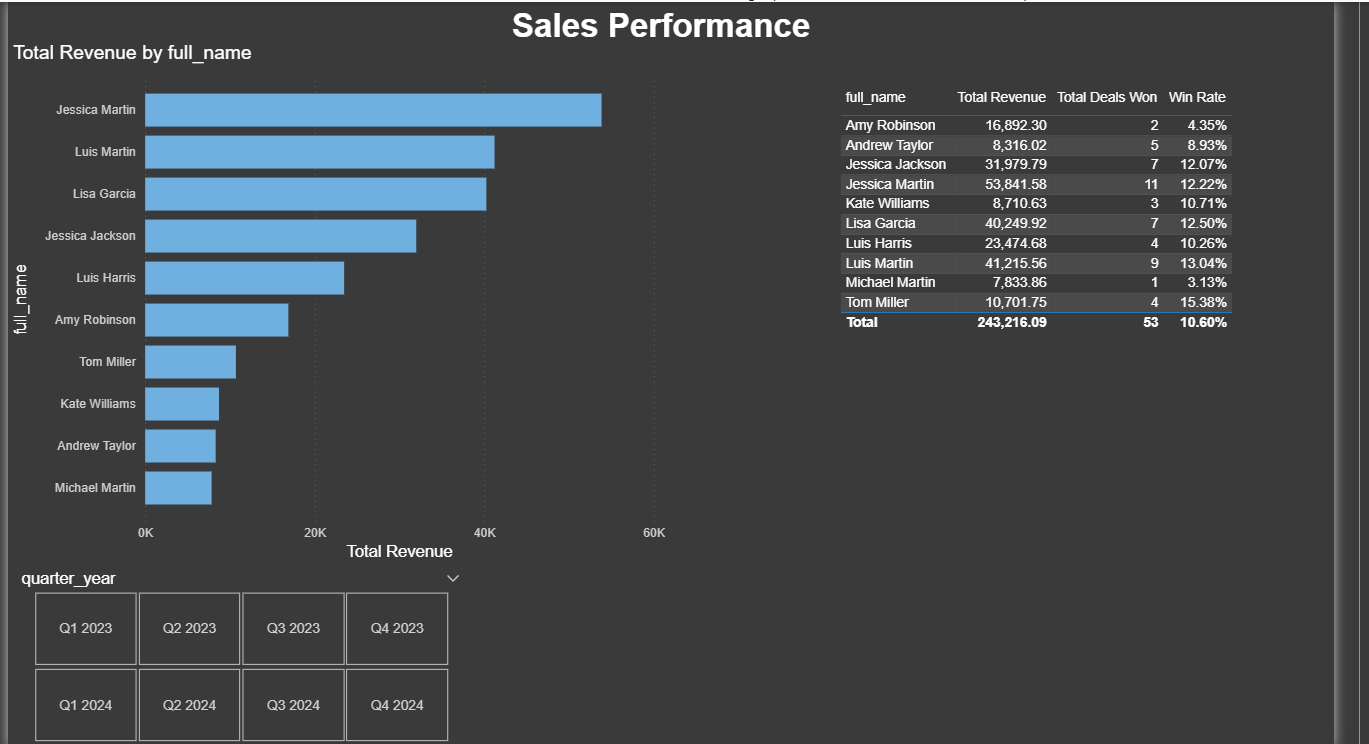

What the dashboard file says about the page in this screenshot:
{"tool":"powerbi","page":{"name":"Sales Performance","canvas":[1280,720],"ordinal":2},"visuals":[{"type":"textbox","box":[481.6,0,315.6,78.2],"z":0},{"type":"clusteredBarChart","fields":{"Category":["sales_reps.full_name"],"Y":["sales.Total Revenue"]},"box":[0,38.4,639.5,505],"z":1000},{"type":"slicer","fields":{"Values":["date_table.quarter_year"]},"box":[0,543.4,448.7,177],"z":2000},{"type":"tableEx","fields":{"Values":["sales_reps.full_name","sales.Total Revenue","sales.Total Deals Won","opportunities_data.Win Rate"]},"box":[797.3,78.2,406.2,281.3],"z":2001}]}

Visuals, with their boxes on the page's 1280x720 design canvas (x1, y1, x2, y2). These are canvas units, not pixel positions in the 1369x744 screenshot, which may show the page scaled, cropped or inside an application window:
textbox: box(482, 0, 797, 78)
clusteredBarChart - sales_reps.full_name x sales.Total Revenue: box(0, 38, 640, 543)
slicer - date_table.quarter_year: box(0, 543, 449, 720)
tableEx - sales_reps.full_name x sales.Total Revenue: box(797, 78, 1204, 360)
